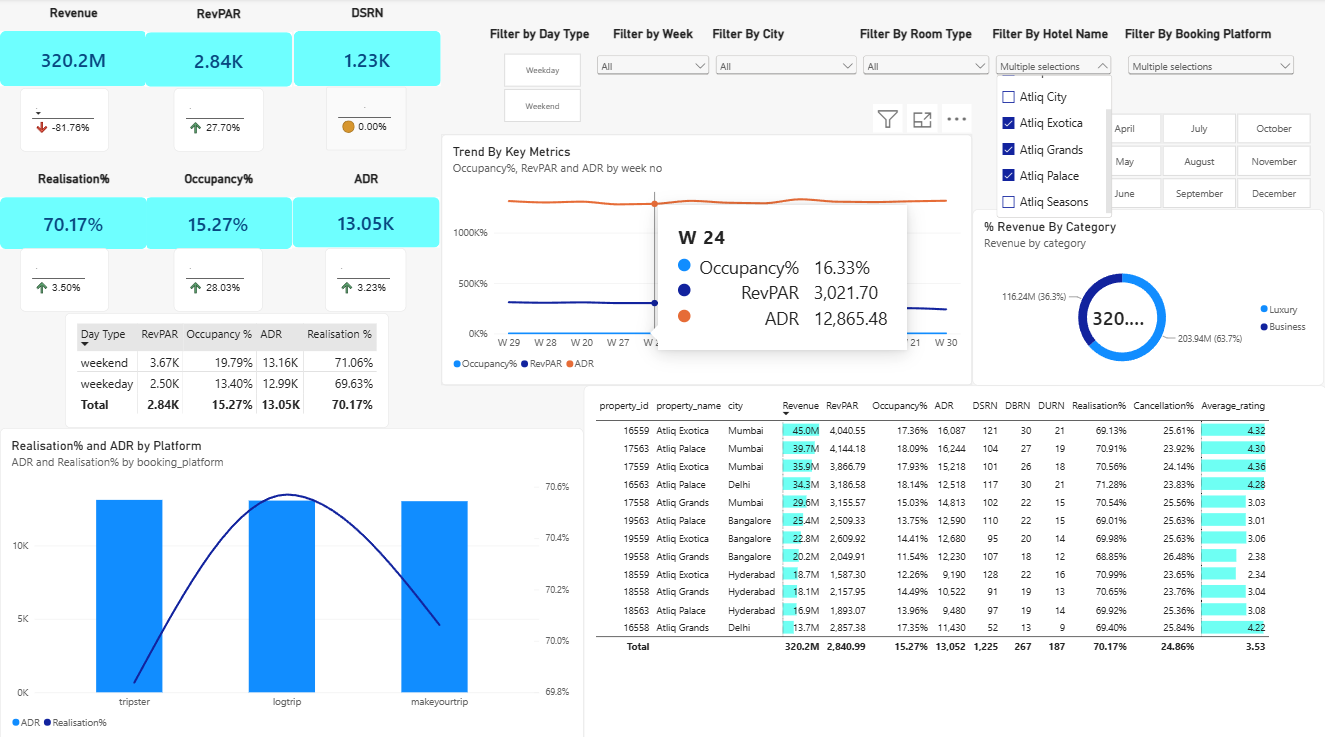

The dashboard page shown, as its layout file describes it:
{"tool":"powerbi","page":{"name":"Home","canvas":[1920,1080],"ordinal":1},"visuals":[{"type":"tableEx","fields":{"Values":["dim_hotels.property_id","dim_hotels.property_name","dim_hotels.city","key_measures.Revenue","key_measures.RevPAR","key_measures.Occupancy%","key_measures.ADR","key_measures.DSRN","key_measures.DBRN","key_measures.DURN","key_measures.Realisation%","key_measures.Cancellation%"]},"box":[845.1,561,1074.9,519.4],"z":0},{"type":"slicer","title":"Filter By City","fields":{"Values":["dim_hotels.city"]},"box":[1031.5,41.6,213.5,94.1],"z":1000},{"type":"slicer","title":"Filter By Room Type","fields":{"Values":["dim_rooms.room_class"]},"box":[1245,41.6,191.8,94.1],"z":2000},{"type":"slicer","title":"Filter By Hotel Name","fields":{"Values":["dim_hotels.property_name"]},"box":[1436.9,41.6,177.3,94.1],"z":3000},{"type":"slicer","title":"Filter By Booking Platform","fields":{"Values":["fact_bookings.booking_platform"]},"box":[1628.7,41.6,249.7,94.1],"z":4000},{"type":"slicer","title":"Filter By Month","fields":{"Values":["dim_date.mmm yy.Variation.Date Hierarchy.Month"]},"box":[1445.9,148.4,470.5,177.3],"z":5000},{"type":"slicer","title":"Filter by Day Type","fields":{"Values":["dim_date.WeekEnd"]},"box":[664.1,41.6,181,139.3],"z":6000},{"type":"slicer","title":"Filter by Week","fields":{"Values":["dim_date.week no"]},"box":[859.6,41.6,171.9,106.8],"z":7000},{"type":"cardVisual","title":"Revenue","fields":{"Data":["key_measures.Revenue"]},"box":[0,10.9,213.5,117.6],"z":8000},{"type":"tableEx","fields":{"Values":["key_measures.Revenue_WoW_change%"]},"box":[29,130.3,128.5,92.3],"z":9000},{"type":"cardVisual","title":"Occupancy%","fields":{"Data":["key_measures.Occupancy%"]},"box":[209.9,251.5,213.5,112.2],"z":10000},{"type":"cardVisual","title":"RevPAR","fields":{"Data":["key_measures.RevPAR"]},"box":[209.9,12.7,213.5,115.8],"z":11000},{"type":"cardVisual","title":"DSRN","fields":{"Data":["key_measures.DSRN"]},"box":[425.3,10.9,213.5,117.6],"z":12000},{"type":"cardVisual","title":"ADR","fields":{"Data":["key_measures.ADR"]},"box":[423.5,251.5,213.5,110.4],"z":13000},{"type":"cardVisual","title":"Realisation%","fields":{"Data":["key_measures.Realisation%"]},"box":[0,251.5,213.5,112.2],"z":14000},{"type":"tableEx","fields":{"Values":["key_measures.RevPAR_WoW_change%"]},"box":[251.5,130.3,130.3,92.3],"z":15000},{"type":"tableEx","fields":{"Values":["key_measures.DSRN_WoW_change%"]},"box":[472.3,128.5,115.8,92.3],"z":16000},{"type":"tableEx","fields":{"Values":["key_measures.Realisation_WoW_change%"]},"box":[29,361.9,128.5,92.3],"z":17000},{"type":"tableEx","fields":{"Values":["key_measures.Occupancy_WoW_change%"]},"box":[251.5,361.9,128.5,92.3],"z":18000},{"type":"tableEx","fields":{"Values":["key_measures.ADR_WoW_change%"]},"box":[470.5,361.9,117.6,92.3],"z":19000},{"type":"donutChart","title":"% Revenue By Category","fields":{"Category":["dim_hotels.category"],"Y":["key_measures.Revenue"]},"box":[1407.9,322.1,508.5,238.9],"z":20000},{"type":"lineChart","title":"Trend By Key Metrics","fields":{"Category":["dim_date.week no"],"Y":["key_measures.Occupancy%","key_measures.RevPAR","key_measures.ADR"]},"box":[638.8,197.3,769.1,363.7],"z":21000},{"type":"lineClusteredColumnComboChart","title":"Realisation% and ADR by Platform","fields":{"Category":["fact_bookings.booking_platform"],"Y":["key_measures.ADR"],"Y2":["key_measures.Realisation%"]},"box":[0,622.5,845.1,457.8],"z":22000},{"type":"tableEx","fields":{"Values":["dim_date.day_type","key_measures.RevPAR","key_measures.Occupancy%","key_measures.ADR","key_measures.Realisation%"]},"box":[94.1,456,468.7,166.5],"z":23000}]}

Visuals, with their boxes in screenshot pixels (x1, y1, x2, y2), scaled from the page's 1920x1080 canvas onto the 1325x737 screenshot:
tableEx - dim_hotels.property_id x dim_hotels.property_name: select_region(583, 383, 1324, 736)
"Filter By City" slicer: select_region(712, 28, 859, 93)
"Filter By Room Type" slicer: select_region(859, 28, 992, 93)
"Filter By Hotel Name" slicer: select_region(992, 28, 1114, 93)
"Filter By Booking Platform" slicer: select_region(1124, 28, 1296, 93)
"Filter By Month" slicer: select_region(998, 101, 1323, 222)
"Filter by Day Type" slicer: select_region(458, 28, 583, 123)
"Filter by Week" slicer: select_region(593, 28, 712, 101)
"Revenue" cardVisual: select_region(0, 7, 147, 88)
tableEx - key_measures.Revenue_WoW_change%: select_region(20, 89, 109, 152)
"Occupancy%" cardVisual: select_region(145, 172, 292, 248)
"RevPAR" cardVisual: select_region(145, 9, 292, 88)
"DSRN" cardVisual: select_region(294, 7, 441, 88)
"ADR" cardVisual: select_region(292, 172, 440, 247)
"Realisation%" cardVisual: select_region(0, 172, 147, 248)
tableEx - key_measures.RevPAR_WoW_change%: select_region(174, 89, 263, 152)
tableEx - key_measures.DSRN_WoW_change%: select_region(326, 88, 406, 151)
tableEx - key_measures.Realisation_WoW_change%: select_region(20, 247, 109, 310)
tableEx - key_measures.Occupancy_WoW_change%: select_region(174, 247, 262, 310)
tableEx - key_measures.ADR_WoW_change%: select_region(325, 247, 406, 310)
"% Revenue By Category" donutChart: select_region(972, 220, 1323, 383)
"Trend By Key Metrics" lineChart: select_region(441, 135, 972, 383)
"Realisation% and ADR by Platform" lineClusteredColumnComboChart: select_region(0, 425, 583, 736)
tableEx - dim_date.day_type x key_measures.RevPAR: select_region(65, 311, 388, 425)
